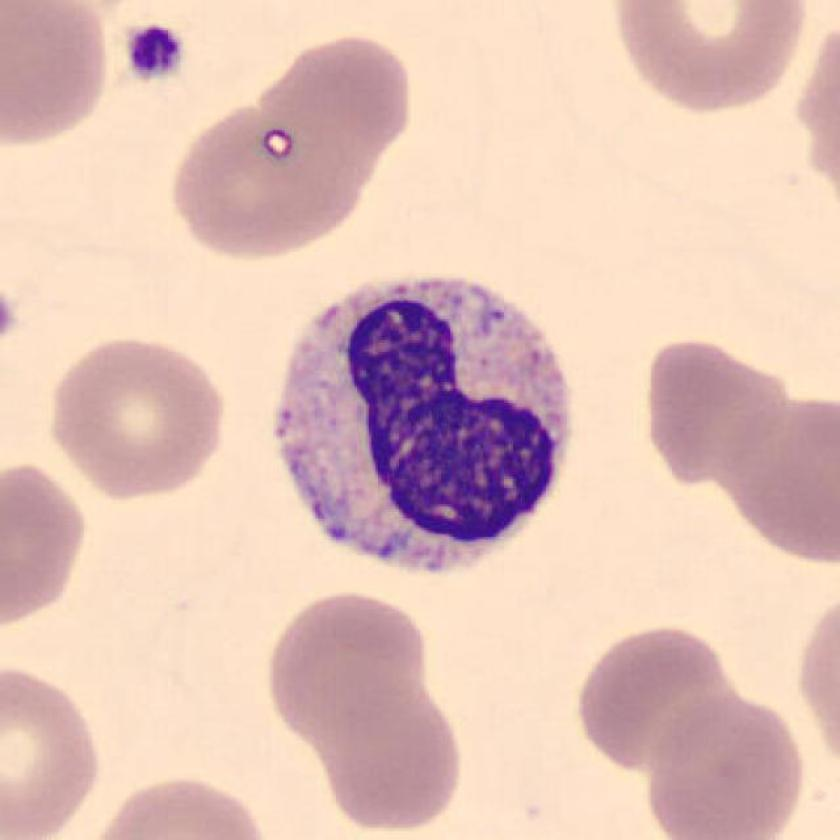neutrophil: (274, 280, 568, 579)
